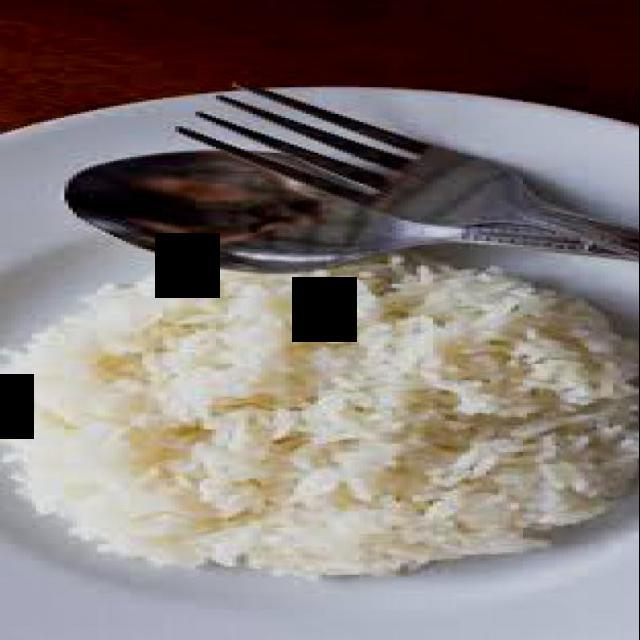rice: (1, 254, 640, 576)
